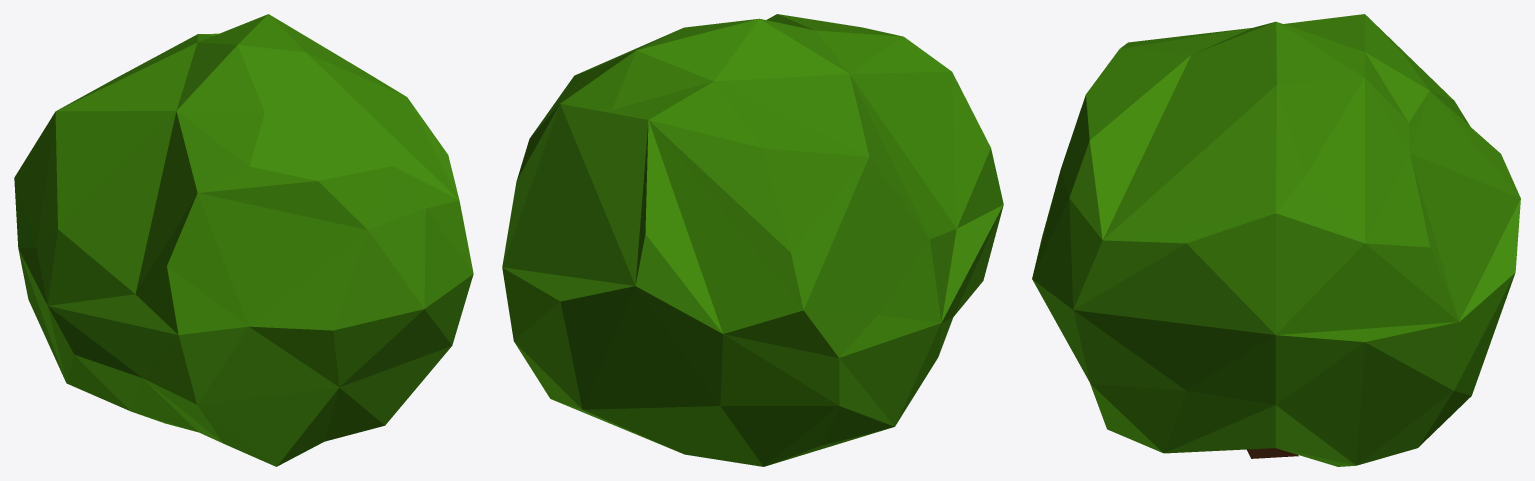
Rendered from bush middle.fbx.
3 renders of one model, left to right at view 1: azimuth 30°, elevation 25°; view 2: azimuth 150°, elevation 25°; view 3: azimuth 270°, elevation 25°, orthographic. The views are drawn at different scales.
Parts seen in each view (by area): view 1: bush medium; view 2: bush medium; view 3: bush medium.
Boxes of the visible parts, <box> form: bush medium: <box>14,14,473,466</box>; bush medium: <box>502,14,1003,466</box>; bush medium: <box>1032,14,1520,466</box>.
Bounding box in the file's own units: 6.87 × 6.82 × 7.27.
